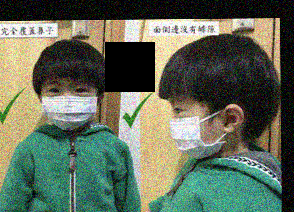with_mask: (167, 96, 226, 162), (39, 79, 99, 132)
